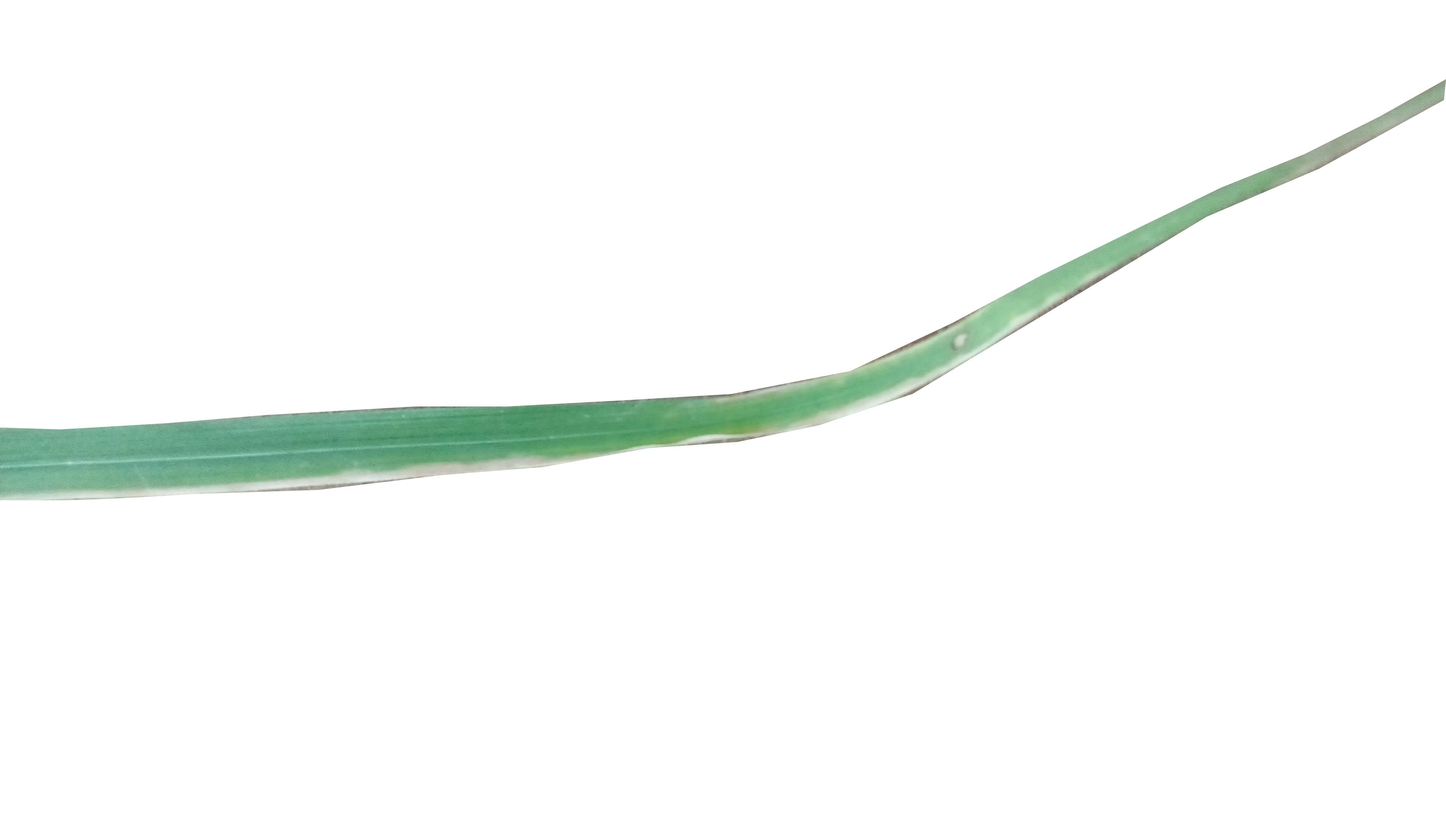Blight: (299, 460, 412, 485), (448, 452, 532, 466), (945, 332, 984, 361)
